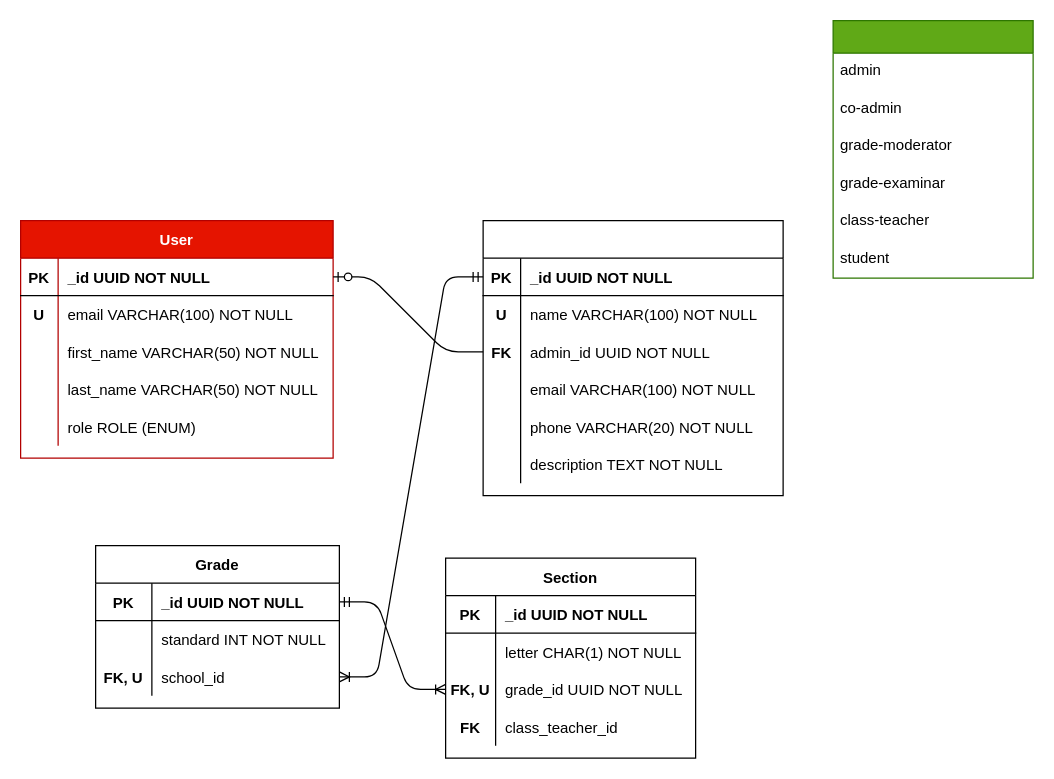
This 1054x779 diagram has some shape labels left out. Here are the shapes that lost their labels. From the top down, the box of each, then its label:
(832, 19, 1033, 278): ROLE
(482, 219, 783, 496): School
